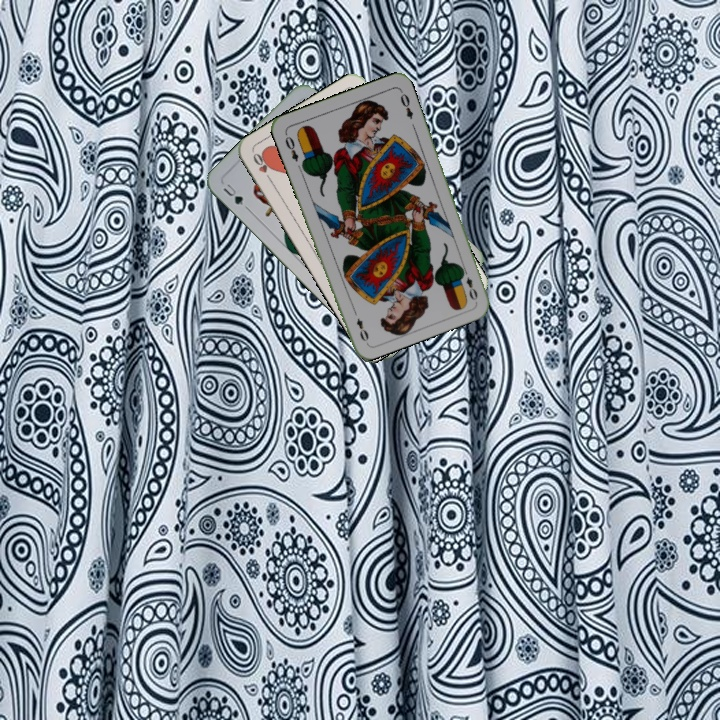EO: (458, 264, 480, 303), (281, 129, 301, 164)
GU: (219, 180, 246, 208)
HO: (249, 149, 276, 185)
